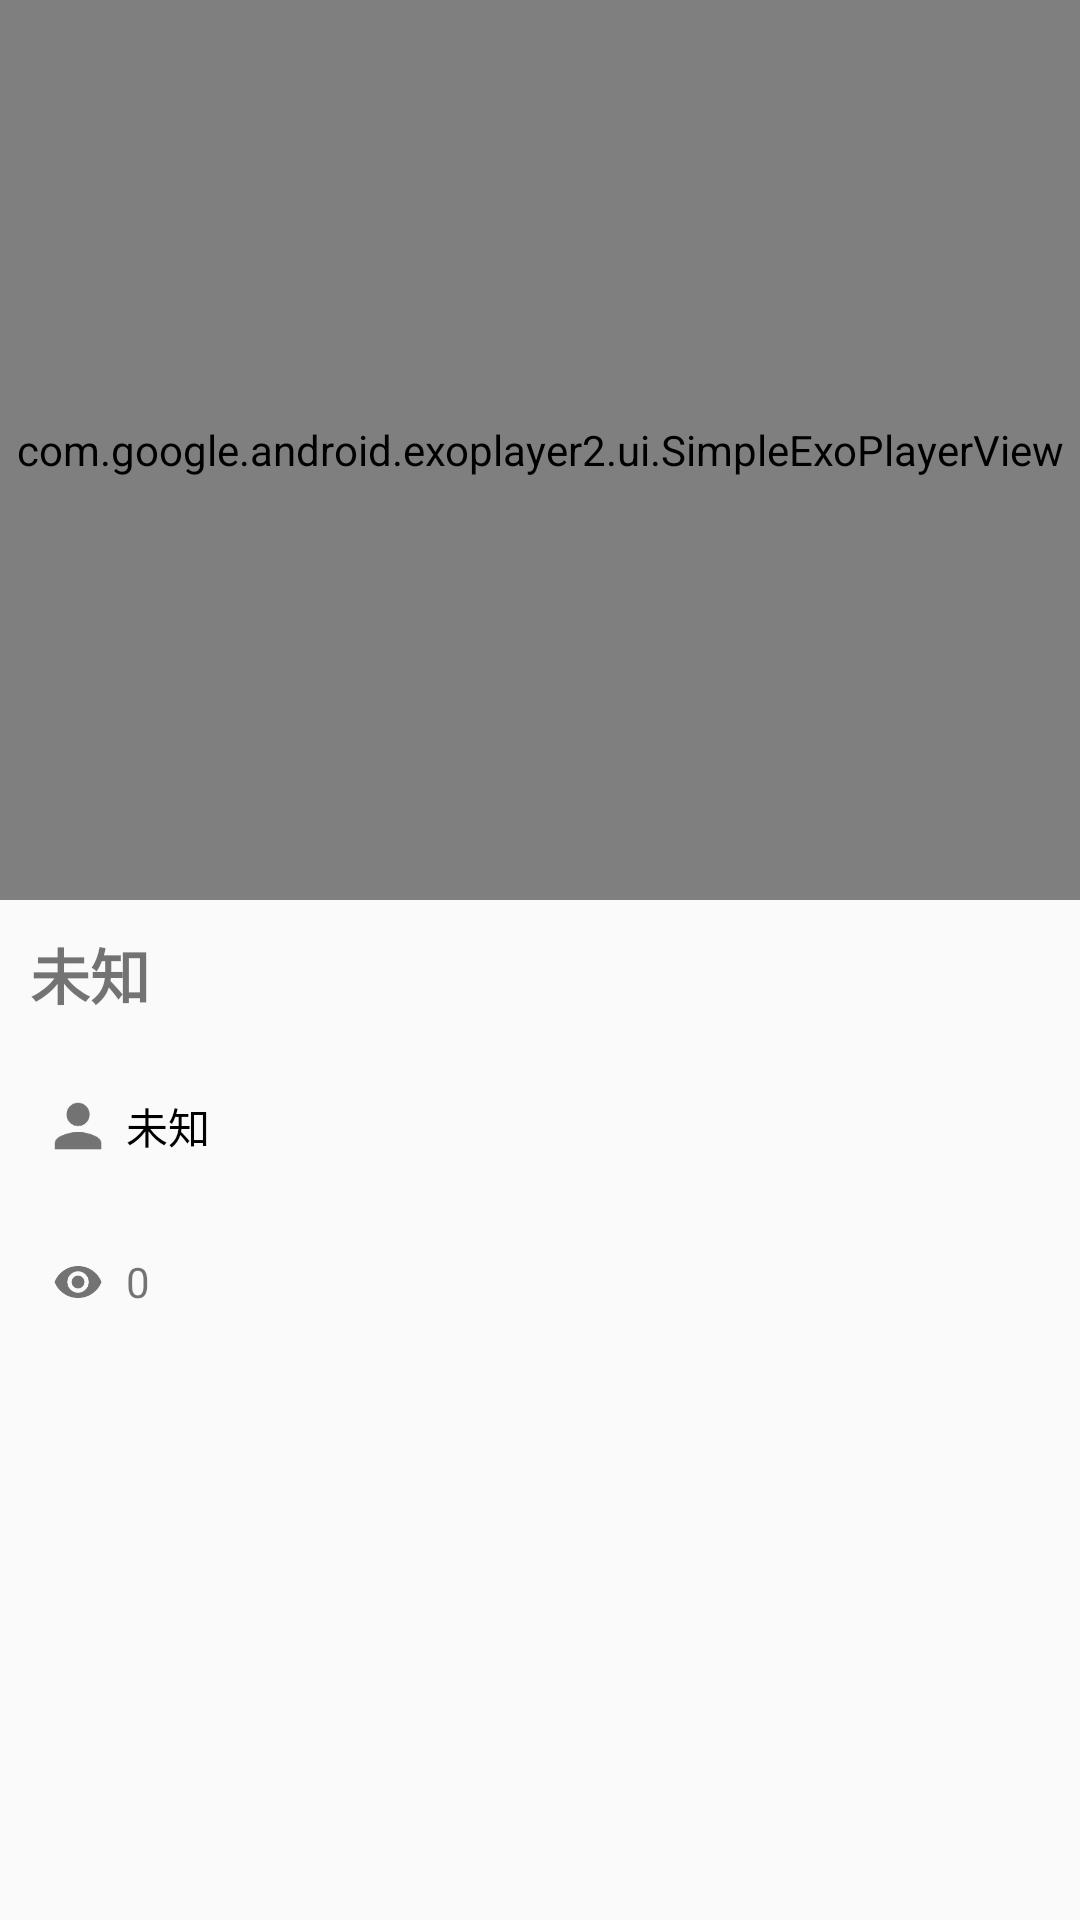

Icons on this 1080×1920 Android screen, each with its box as (x1, y1, x2, y2):
author: (54, 1103, 102, 1150)
eye: (54, 1266, 102, 1298)
